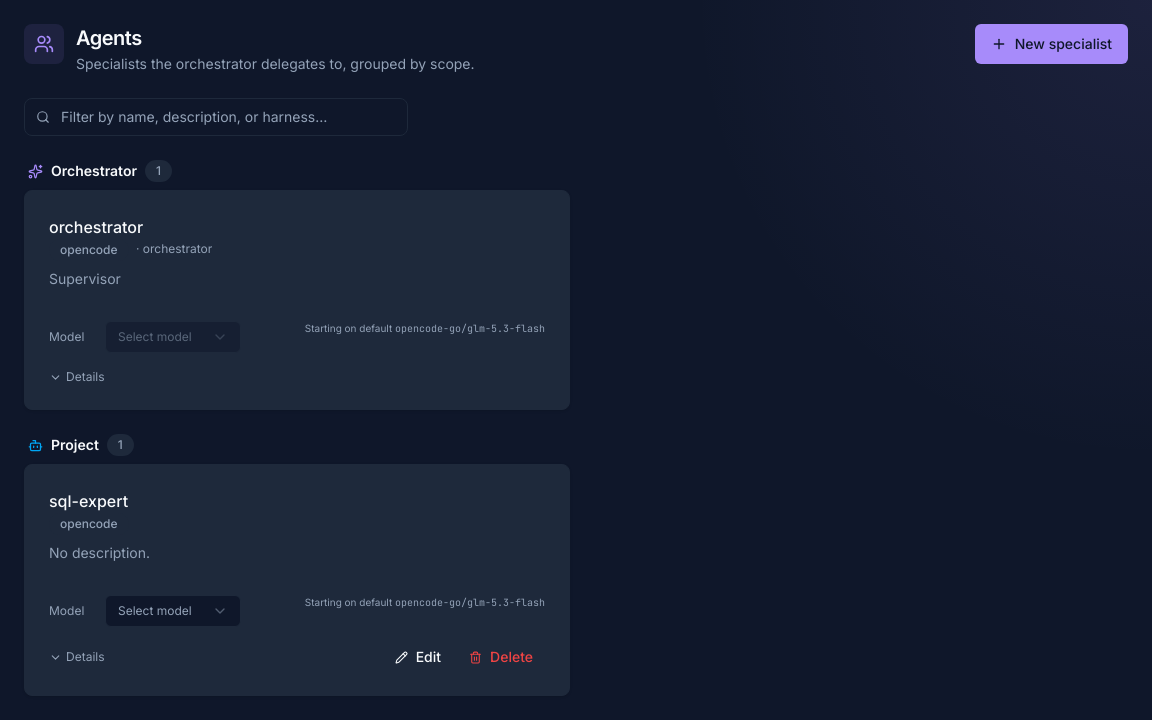
Test: AgentsPage search filter › shows an empty note when nothing matches
The width and height of the screenshot is (1152, 720).
In the search field with test id "agents-search": [216, 117] box [24, 98, 408, 136], type "zzz-nope"
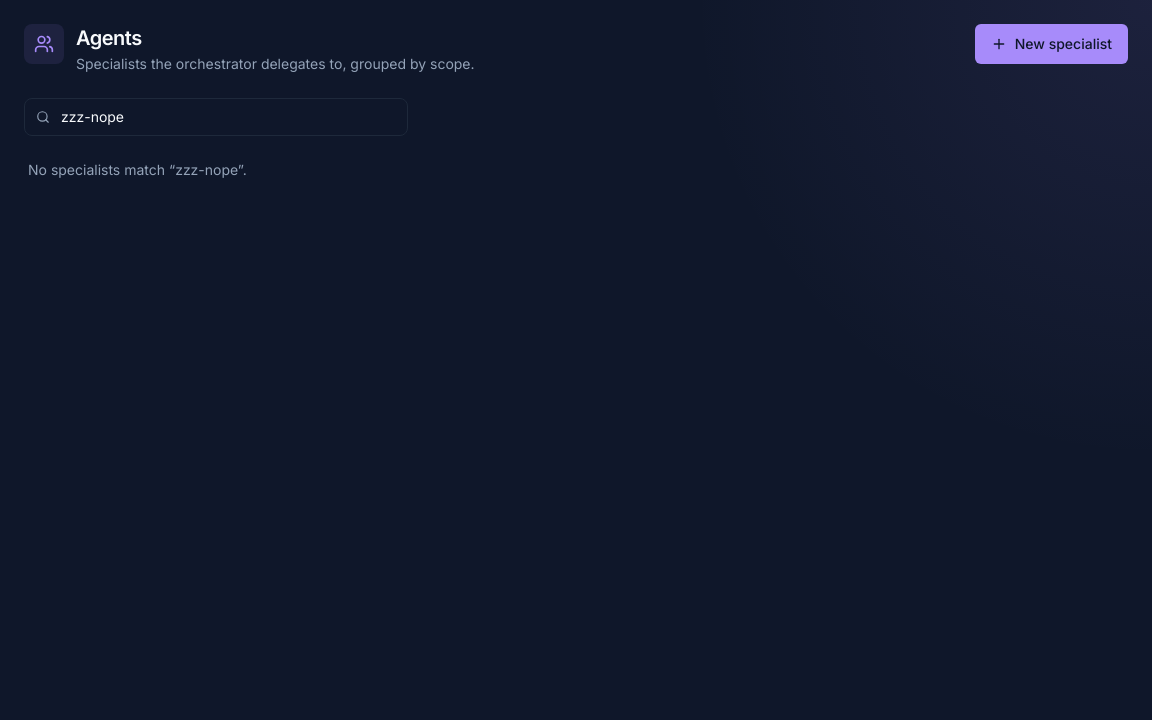
Check: the text "No specialists match “zzz-nope”." is shown, box [28, 161, 247, 178]
